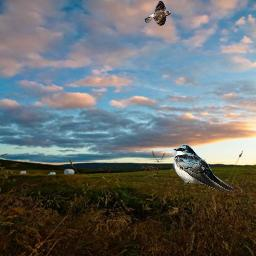Swallow: (173, 144, 235, 192), (144, 0, 172, 26)
